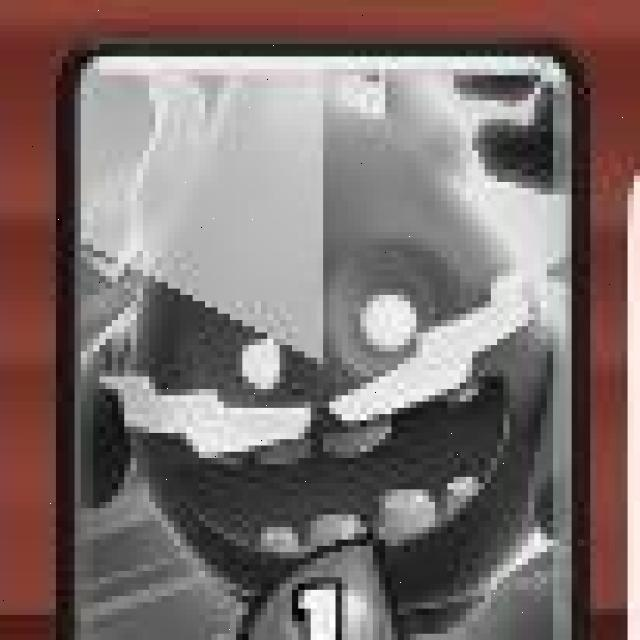Electro_Spirit: (51, 43, 582, 640)
